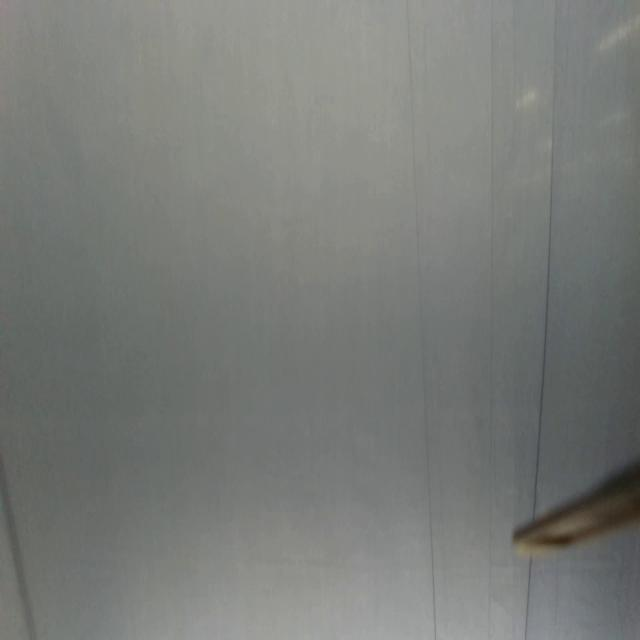crease: (404, 0, 438, 640), (532, 0, 560, 508), (0, 448, 37, 640), (486, 1, 497, 640), (524, 552, 534, 640)
